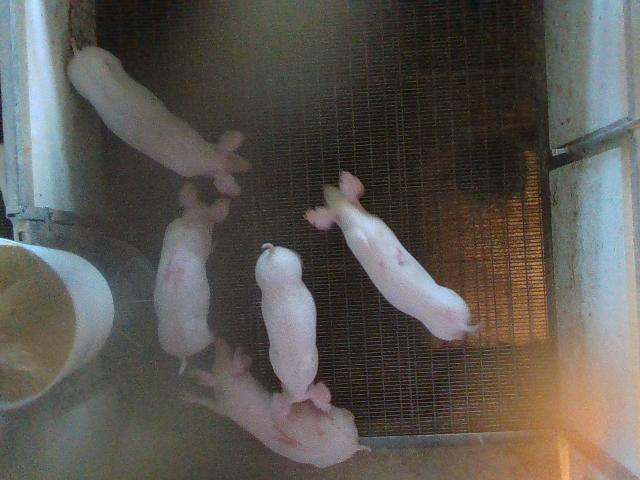pig-4: (154, 181, 230, 373)
